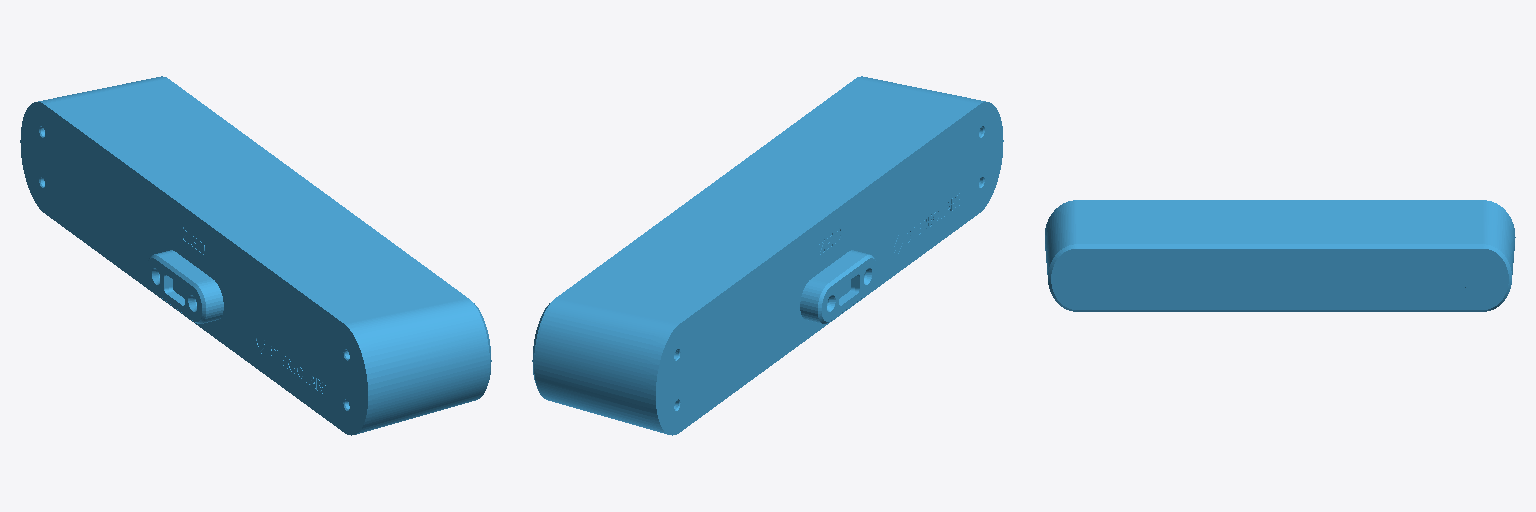
robot.urdf — zed2i:
<?xml version="1.0" ?>
<robot name="zed2i">
    <link name="base_link"/>

    <!--    Define the mounting plates for the robot arms-->
    <link name="zed_link">
        <visual>
            <origin xyz="0 0 0" rpy="0 0 0"/>
            <geometry>
                <mesh filename="zed2i.obj" scale="0.1 0.1 0.1"/>
            </geometry>
        </visual>
        <collision>
            <origin xyz="0.06 0 -0.01865" rpy="0 0 0"/>
            <geometry>
                <box size="0.175 0.043 0.0373"/>
            </geometry>
        </collision>
        <inertial>
            <mass value="0.230"/>
        </inertial>
    </link>

    <joint name="base_link_2_zed_link" type="fixed">
        <parent link="base_link"/>
        <child link="zed_link"/>
        <origin xyz="0 0 0.00" rpy="0 0 0"/> # camera is modelled with Z+ forward, origin is in left eye (egocentric)
    </joint>

    <!--    Virtual frames -->
    <link name="right_eye"/> <!-- virtual frame for the right eye -->
    <joint name="pose_of_right_eye_in_left_eye" type="fixed">
        <parent link="zed_link"/>
        <child link="right_eye"/>
        <origin xyz="0.12 0 0" rpy="0 0 0"/>
    </joint>
</robot>

--- What the picture shows (computed from the rendered views, not written in the file) ---
Views: 3 orthographic renders of the robot side by side, from view 1: azimuth 30°, elevation 25°; view 2: azimuth 150°, elevation 25°; view 3: azimuth 270°, elevation 25°.
Robot: zed2i — 3 links, 2 joints (2 fixed); root link base_link; default pose: all joints at 0.
Links seen in each view (by area): view 1: zed_link; view 2: zed_link; view 3: zed_link.
Boxes of the visible links, <box> form: zed_link: <box>20,76,491,435</box>; zed_link: <box>532,76,1003,435</box>; zed_link: <box>1045,200,1515,311</box>.
Bounding box of the posed robot: 0.0431 × 0.1753 × 0.0303 m (x, y, z).
1 mesh visuals loaded from 1 distinct referenced files (1 OBJ).